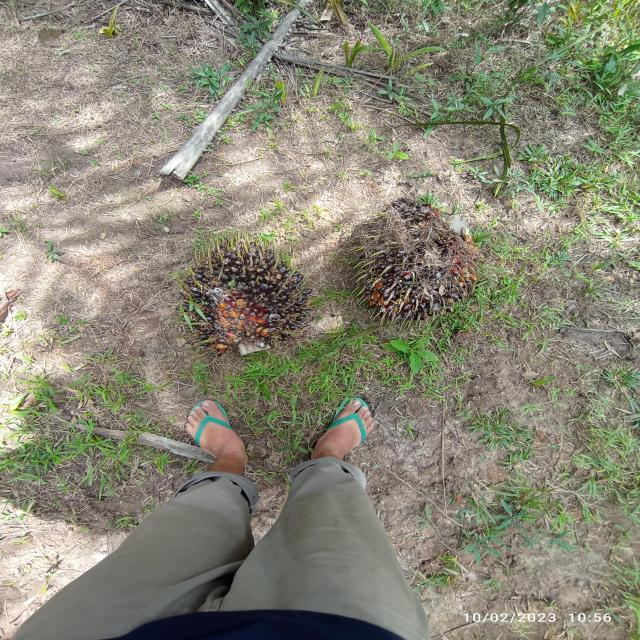fraksi 00: (170, 219, 322, 369), (340, 193, 490, 340)
